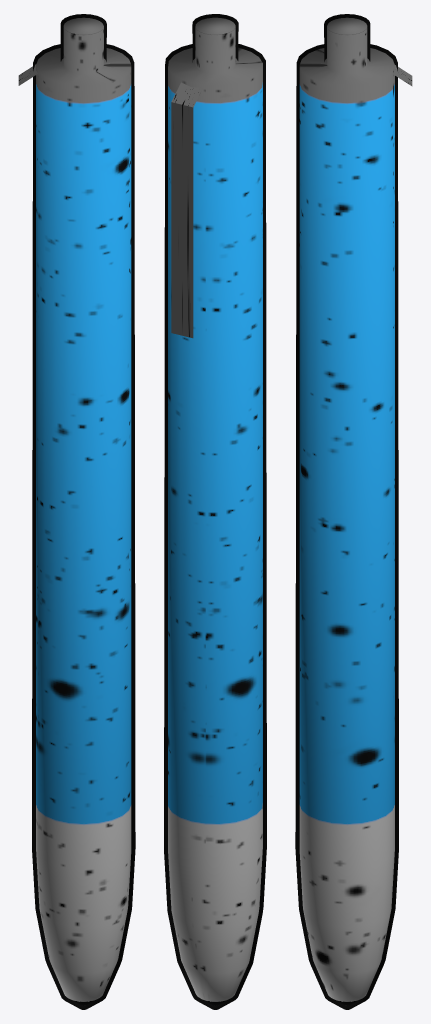
Rendered from pen.obj.
3 renders of one model, left to right at view 1: azimuth 90°, elevation 25°; view 2: azimuth 150°, elevation 25°; view 3: azimuth 270°, elevation 25°, orthographic.
Visible parts, largest first — view 1: Cylinder; view 2: Cylinder; view 3: Cylinder.
Part boxes in pixels (left/top/right/bottom): Cylinder: left=18, top=14, right=135, bottom=1009; Cylinder: left=164, top=14, right=266, bottom=1009; Cylinder: left=295, top=14, right=412, bottom=1009.
Bounding box in the file's own units: 0.256 × 2.69 × 0.2992.
